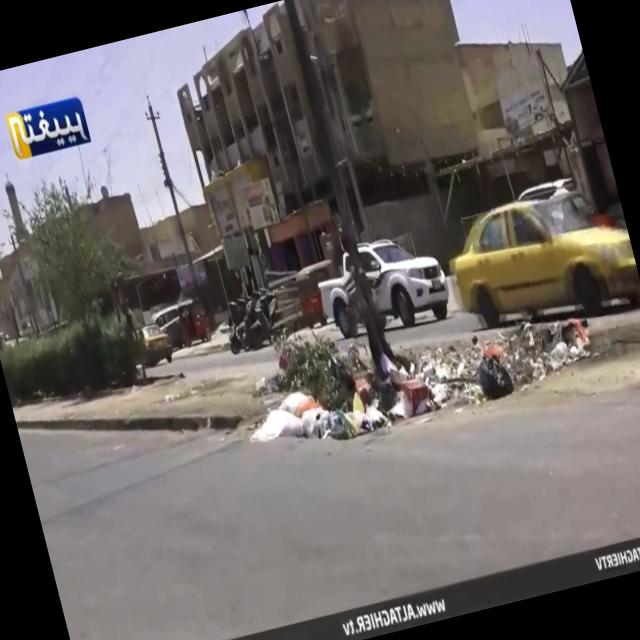high trash: (252, 317, 590, 441)
